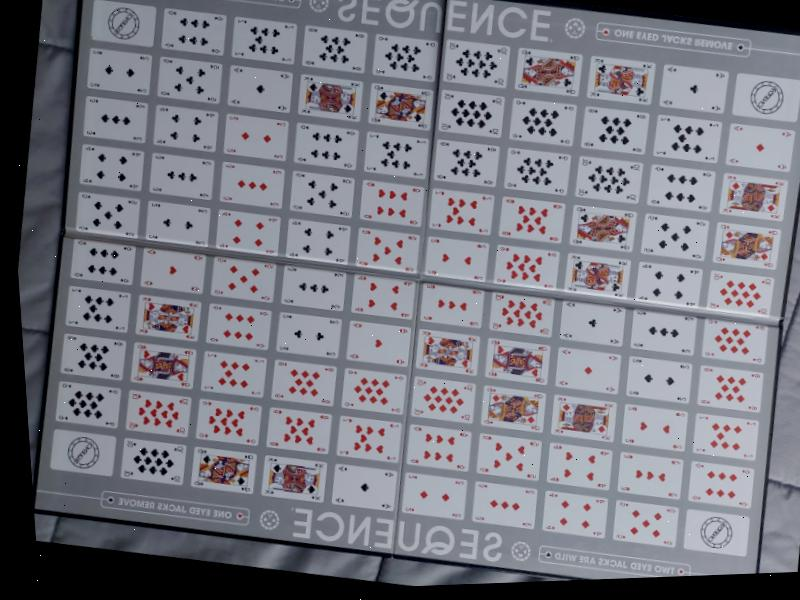Board: (30, 0, 800, 582)
